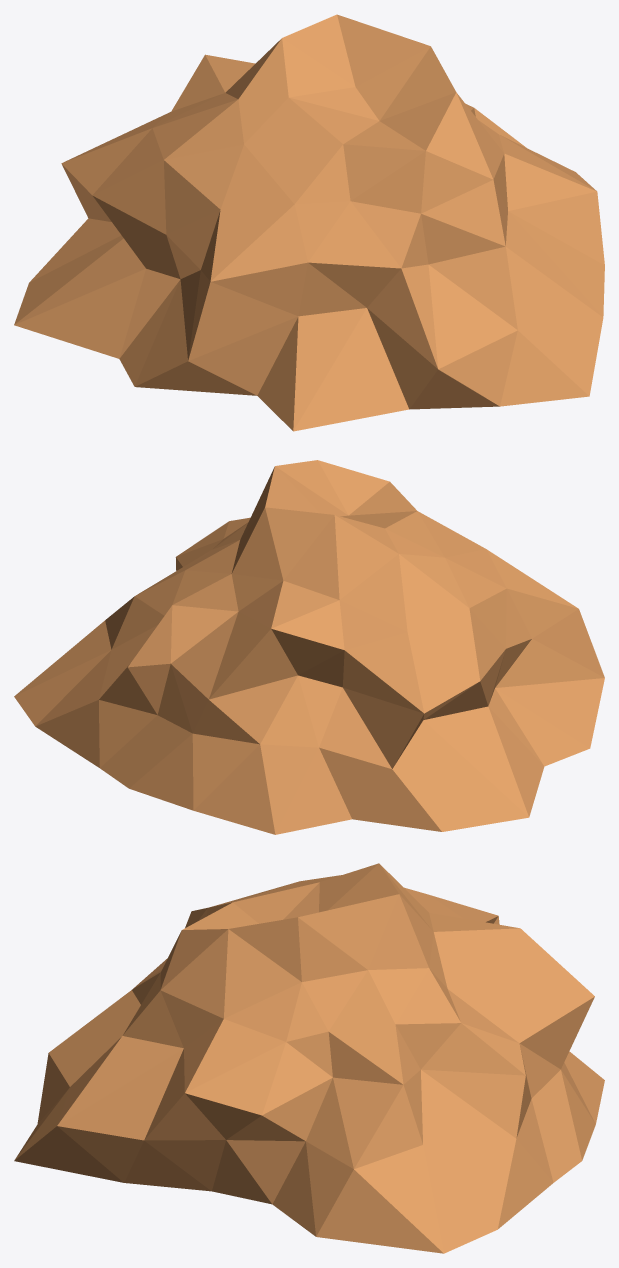
Rendered from hay_mat.fbx.
3 views of the same model, one above another, from view 1: azimuth 30°, elevation 25°; view 2: azimuth 150°, elevation 25°; view 3: azimuth 270°, elevation 25° (orthographic). The views are drawn at different scales.
Visible parts, largest first — view 1: hay_mat; view 2: hay_mat; view 3: hay_mat.
Boxes of the visible parts, x1=… form: hay_mat: x1=14, y1=14, x2=604, y2=431; hay_mat: x1=14, y1=460, x2=604, y2=834; hay_mat: x1=14, y1=863, x2=604, y2=1253.
Size of the model in its own units: 115 by 49.5 by 110.
